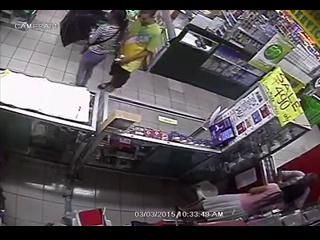Normal: (97, 11, 165, 94), (74, 10, 128, 88)
